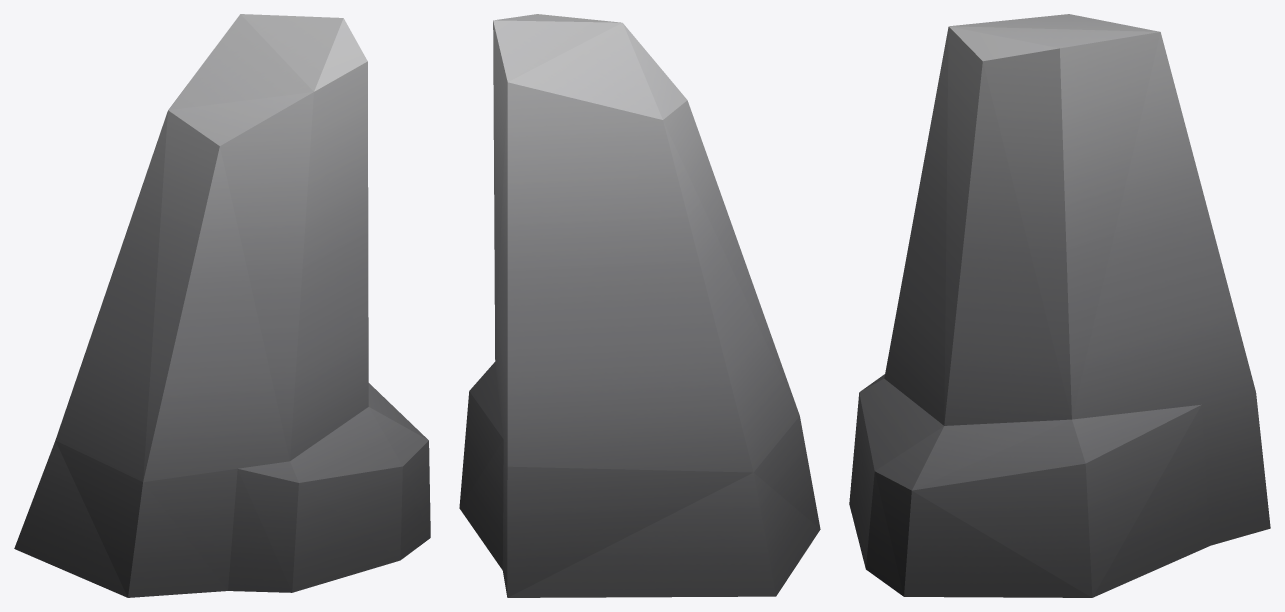
The model's file is RockPointy-01.FBX.
3 views of the same model, side by side, from view 1: azimuth 30°, elevation 25°; view 2: azimuth 150°, elevation 25°; view 3: azimuth 270°, elevation 25° (orthographic). The views are drawn at different scales.
Visible parts, largest first — view 1: RockPointy-01; view 2: RockPointy-01; view 3: RockPointy-01.
Part boxes in pixels (x1,y1,x2,y2): RockPointy-01: (14, 14, 430, 597); RockPointy-01: (459, 14, 820, 597); RockPointy-01: (849, 14, 1270, 597).
Bounding box in the file's own units: 353 × 494 × 350.
Materials: 1 (1 with a texture image).
